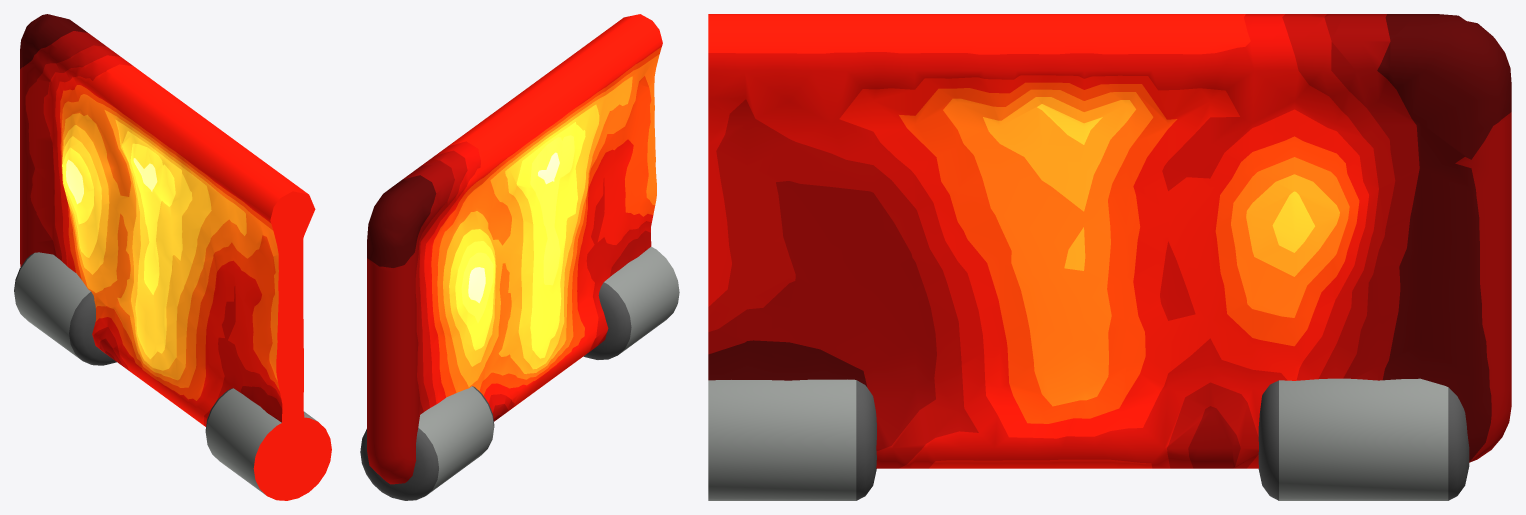
Rendered from fire_flap_r_top.glb.
3 renders of one model, left to right at view 1: azimuth 30°, elevation 25°; view 2: azimuth 150°, elevation 25°; view 3: azimuth 270°, elevation 25°, orthographic. The views are drawn at different scales.
Parts seen in each view (by area): view 1: flap.001, knuckle1.001, knuckle0.001; view 2: flap.001, knuckle0.001, knuckle1.001; view 3: flap.001, knuckle0.001, knuckle1.001.
Part boxes in pixels (bbox=[...]): flap.001: bbox=[20, 14, 315, 482]; knuckle1.001: bbox=[205, 388, 331, 500]; knuckle0.001: bbox=[14, 252, 116, 365]; flap.001: bbox=[367, 14, 662, 484]; knuckle0.001: bbox=[360, 386, 494, 500]; knuckle1.001: bbox=[583, 246, 679, 359]; flap.001: bbox=[708, 14, 1511, 468]; knuckle0.001: bbox=[1258, 378, 1469, 500]; knuckle1.001: bbox=[708, 379, 876, 500].
Bounding box in the file's own units: 3.3 × 12.43 × 19.
